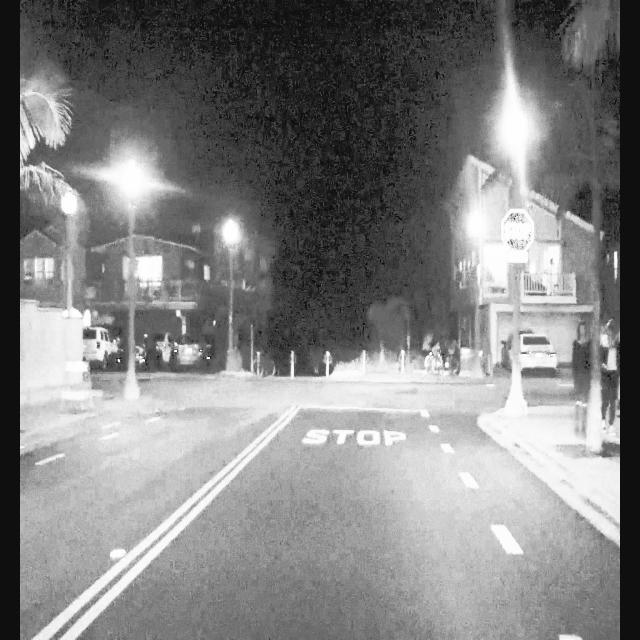Sign: (501, 209, 534, 265)
